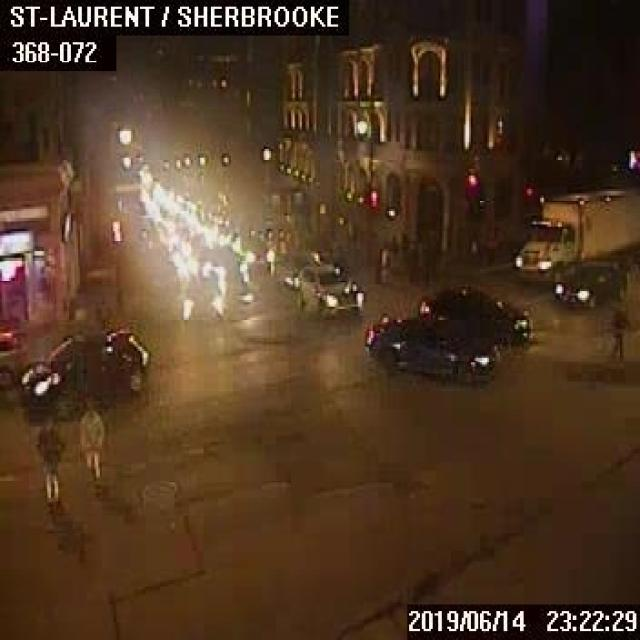pedestrian: (34, 413, 62, 500), (78, 402, 102, 480), (609, 291, 626, 356), (374, 238, 391, 286)
vehicle: (19, 320, 147, 411), (516, 185, 638, 278), (362, 310, 498, 380), (418, 283, 529, 346), (552, 260, 626, 308), (294, 261, 361, 312), (177, 276, 222, 321), (0, 332, 24, 386), (237, 236, 271, 270)
